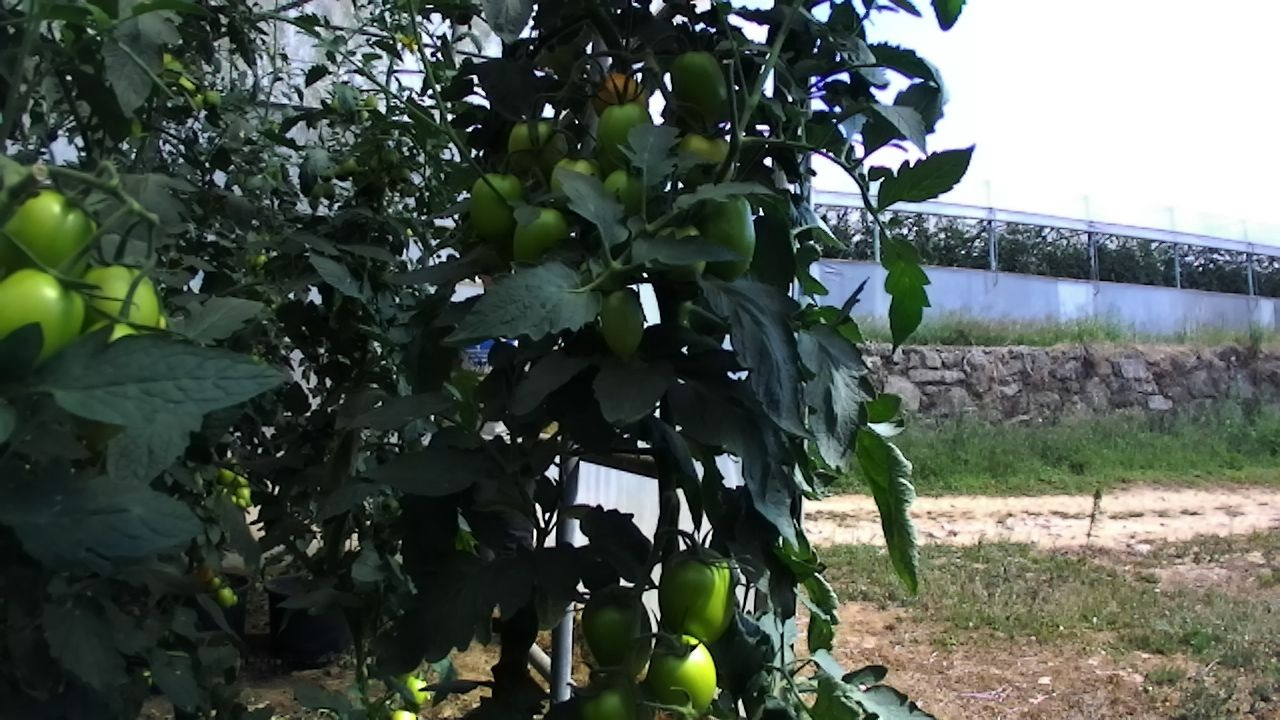tomato: (0, 159, 124, 309), (64, 238, 190, 366), (0, 247, 107, 394), (647, 525, 754, 664), (567, 564, 675, 694), (625, 613, 739, 720), (655, 33, 755, 146), (684, 173, 766, 295), (457, 161, 543, 256), (664, 116, 756, 199), (588, 88, 669, 181), (500, 194, 583, 278), (497, 102, 580, 184), (539, 139, 612, 226), (589, 277, 657, 369), (578, 56, 662, 129), (593, 154, 667, 229), (571, 661, 658, 720), (392, 666, 442, 715), (356, 88, 387, 117), (337, 151, 364, 180), (213, 582, 238, 612), (200, 85, 225, 115), (233, 483, 258, 511), (316, 177, 339, 204)
